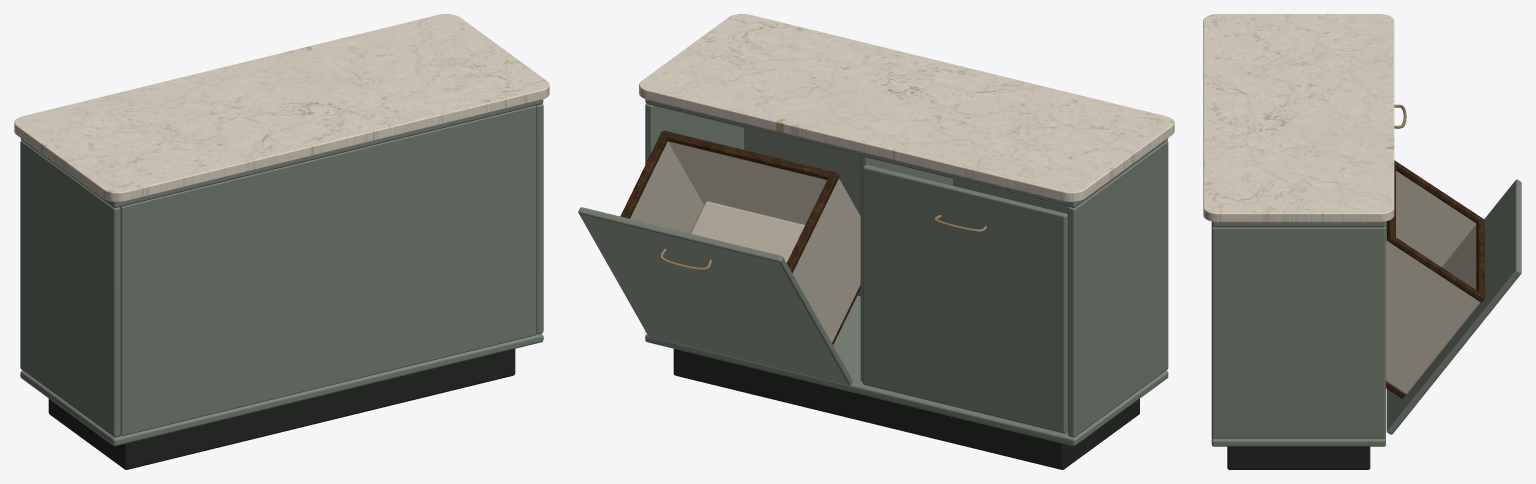
File: storage2-laundry-sorter.glb
The picture shows the model from 3 angles, left to right: view 1: azimuth 30°, elevation 25°; view 2: azimuth 150°, elevation 25°; view 3: azimuth 270°, elevation 25°; orthographic projection. The views are drawn at different scales.
Visible parts, largest first — view 1: sage_surfaces, stone_surfaces, dark_surfaces; view 2: sage_surfaces, stone_surfaces, linen_surfaces, dark_surfaces, walnut_surfaces; view 3: sage_surfaces, stone_surfaces, linen_surfaces, dark_surfaces, walnut_surfaces.
Part boxes in pixels (x1=…): sage_surfaces: x1=20, y1=99, x2=543, y2=446; stone_surfaces: x1=14, y1=14, x2=549, y2=202; dark_surfaces: x1=48, y1=349, x2=515, y2=469; sage_surfaces: x1=578, y1=99, x2=1168, y2=446; stone_surfaces: x1=639, y1=14, x2=1174, y2=201; linen_surfaces: x1=630, y1=141, x2=860, y2=342; dark_surfaces: x1=673, y1=349, x2=1139, y2=469; walnut_surfaces: x1=620, y1=130, x2=860, y2=344; sage_surfaces: x1=1211, y1=179, x2=1521, y2=446; stone_surfaces: x1=1203, y1=14, x2=1394, y2=222; linen_surfaces: x1=1385, y1=171, x2=1480, y2=394; dark_surfaces: x1=1227, y1=446, x2=1370, y2=469; walnut_surfaces: x1=1386, y1=160, x2=1484, y2=398.
Bounding box in the file's own units: 1.47 × 0.9209 × 0.9864.
Materials: 6 (2 with a texture image).
